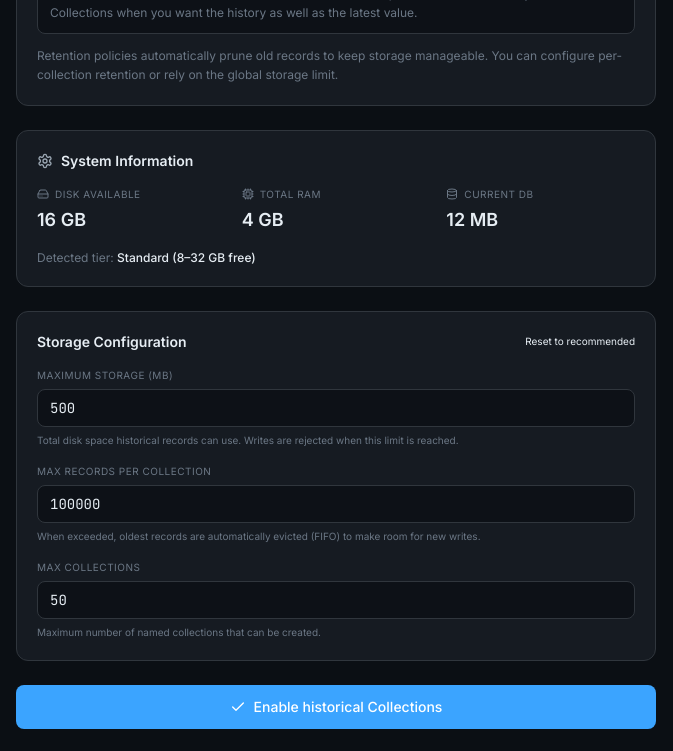
it: SetupWizard › shows an error message when enabling fails
The image size is (673, 751).
(page scrolled)
Click the button "Enable historical Collections" at (336, 706), box [16,684,656,728]
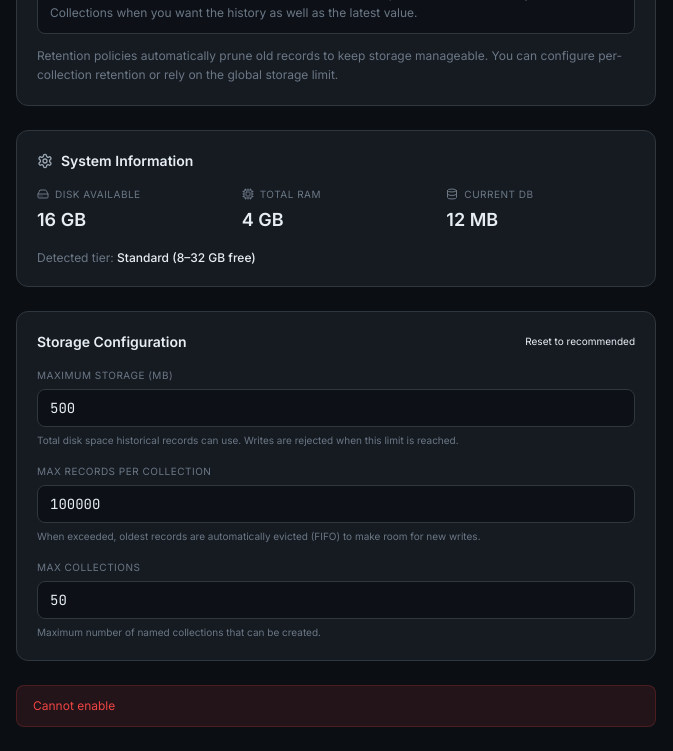
Check: the text "Cannot enable" is shown, box [33,698,115,712]
